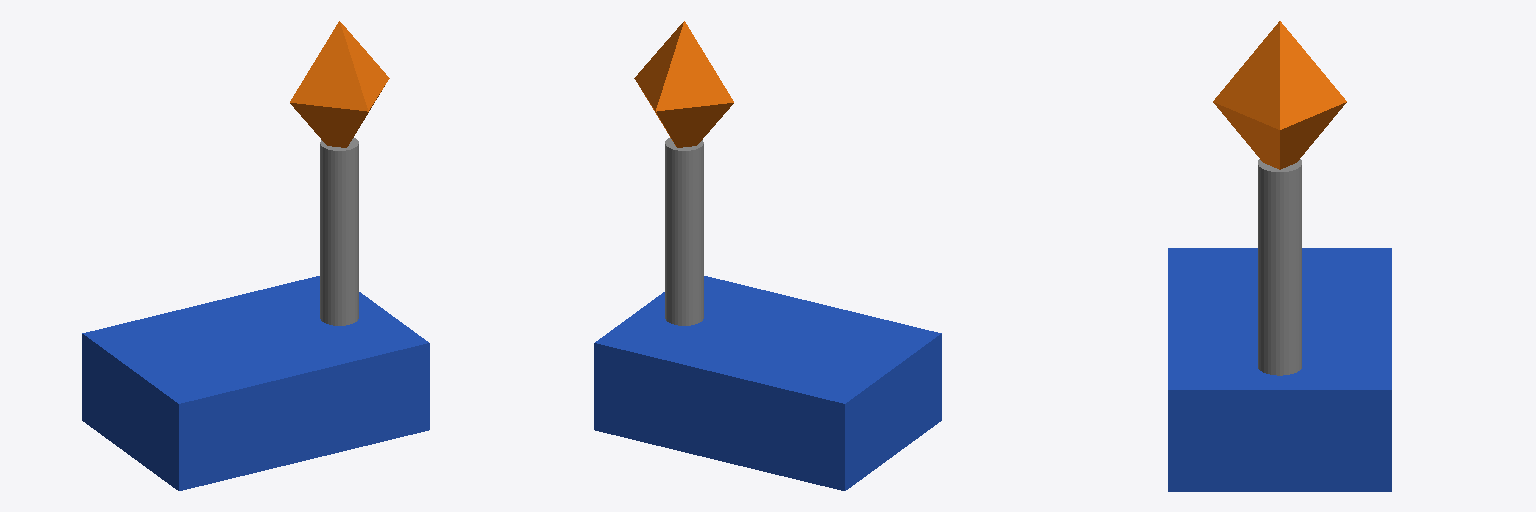
robot.urdf — demo_robot:
<?xml version="1.0"?>
<!-- Single link with multiple visuals: renders in the 3D panel without any
     TF or robot_state_publisher. The head mesh exercises fetchAsset's
     package:// resolution; the primitives render without asset fetching. -->
<robot name="demo_robot">
  <link name="base_link">
    <!-- chassis -->
    <visual>
      <origin xyz="0 0 0.05" rpy="0 0 0"/>
      <geometry>
        <box size="0.3 0.2 0.1"/>
      </geometry>
      <material name="chassis_blue">
        <color rgba="0.2 0.4 0.8 1.0"/>
      </material>
    </visual>
    <!-- mast -->
    <visual>
      <origin xyz="0.1 0 0.2" rpy="0 0 0"/>
      <geometry>
        <cylinder radius="0.02" length="0.2"/>
      </geometry>
      <material name="mast_grey">
        <color rgba="0.6 0.6 0.6 1.0"/>
      </material>
    </visual>
    <!-- sensor head: fetched from the bridge container via fetchAsset -->
    <visual>
      <origin xyz="0.1 0 0.36" rpy="0 0 0"/>
      <geometry>
        <mesh filename="package://demo_robot_description/meshes/head.stl"/>
      </geometry>
      <material name="head_orange">
        <color rgba="0.95 0.5 0.1 1.0"/>
      </material>
    </visual>
  </link>
</robot>

--- What the picture shows (computed from the rendered views, not written in the file) ---
The picture shows the robot from 3 angles, left to right: view 1: azimuth 30°, elevation 25°; view 2: azimuth 150°, elevation 25°; view 3: azimuth 270°, elevation 25°; orthographic projection.
Model demo_robot with 1 links and 0 joints (none), rooted at base_link, posed every joint at zero.
Links seen in each view (by area): view 1: base_link; view 2: base_link; view 3: base_link.
Boxes of the visible links, x1,y1,x2,y2 form: base_link: (82, 21, 429, 490); base_link: (594, 21, 941, 490); base_link: (1168, 21, 1391, 491).
Size in the robot's own frame: 0.31 by 0.2 by 0.44 metres.
Meshes: 1 distinct files referenced, 1 mesh visuals loaded (1 binary STL).
